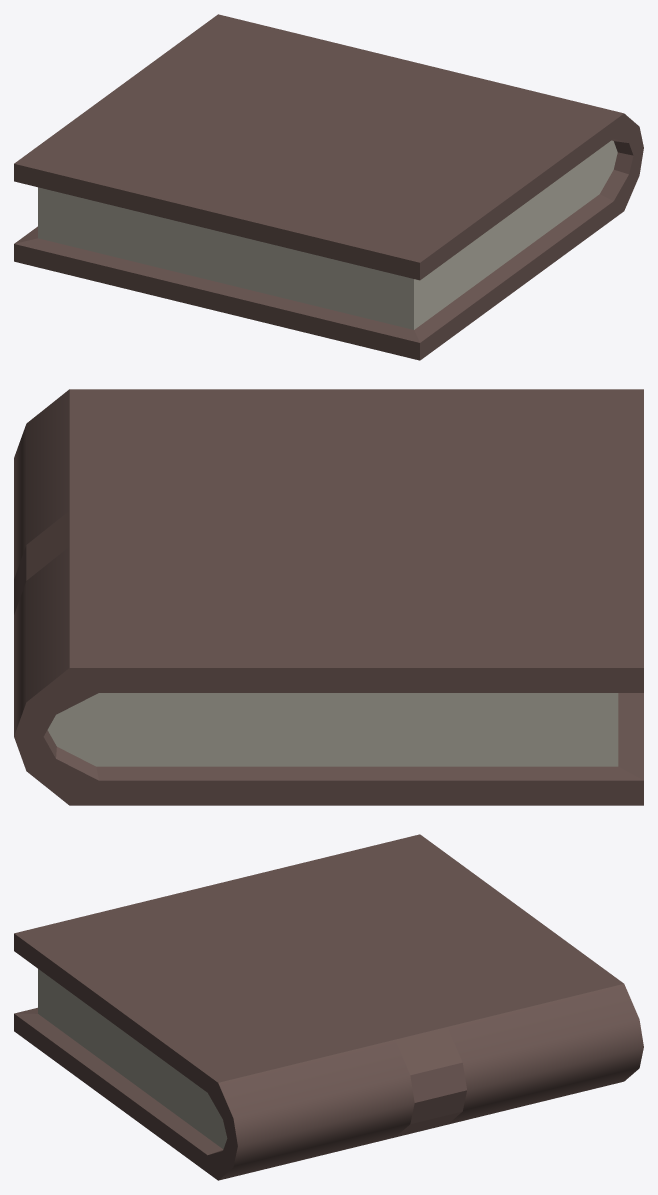
Rendered from Boek.fbx.
3 views of the same model, one above another, from view 1: azimuth 30°, elevation 25°; view 2: azimuth 150°, elevation 25°; view 3: azimuth 270°, elevation 25° (orthographic). The views are drawn at different scales.
Parts seen in each view (by area): view 1: polySurface3284; view 2: polySurface3284; view 3: polySurface3284.
Part boxes in pixels (<box>): polySurface3284: <box>14,14,643,360</box>; polySurface3284: <box>14,389,643,805</box>; polySurface3284: <box>14,834,643,1180</box>.
Size of the model in its own units: 0.2027 by 0.0352 by 0.2052.
